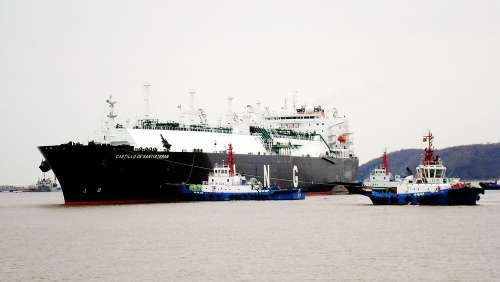Cargoship: (38, 83, 360, 208)
otherboat: (369, 132, 480, 206), (184, 160, 309, 201)
